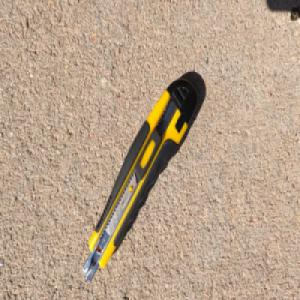Cutter: (81, 75, 199, 284)
